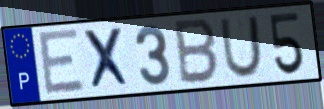3: (133, 23, 172, 88)
5: (267, 10, 305, 77)
B: (173, 17, 221, 87)
E: (36, 27, 87, 99)
U: (218, 14, 264, 80)
X: (80, 26, 134, 92)
